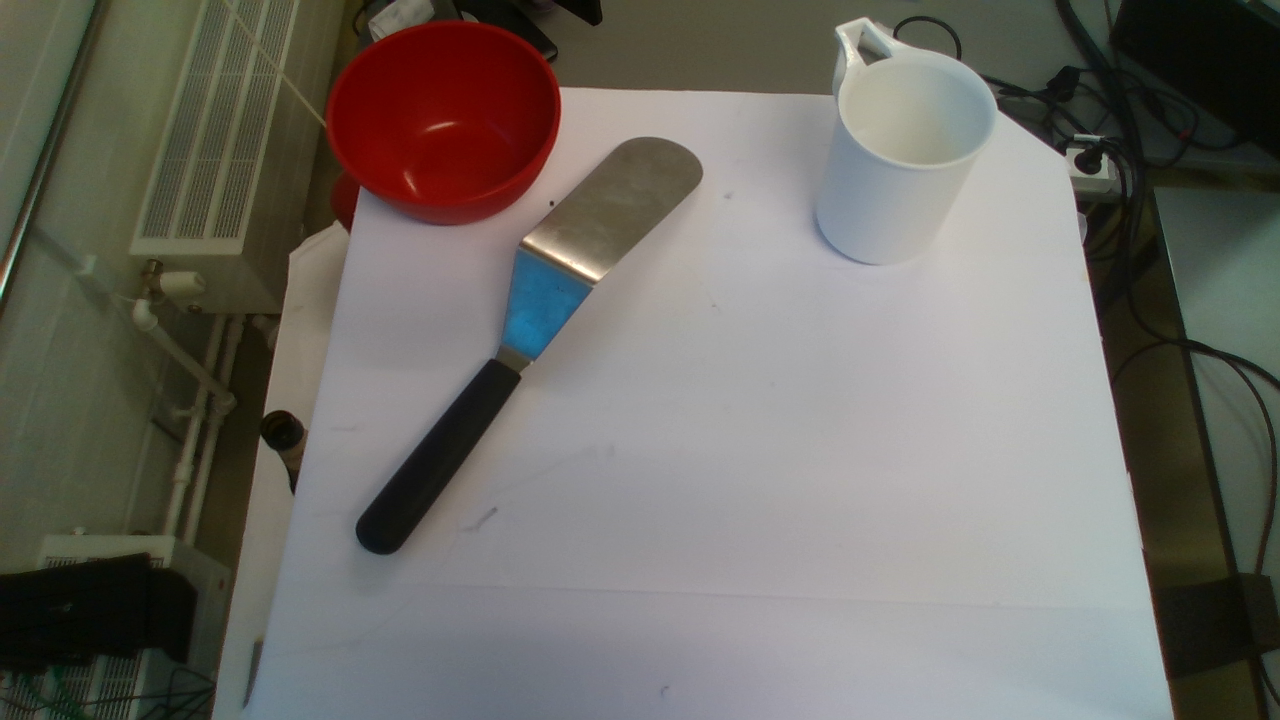bowl: (332, 21, 560, 228)
cup: (802, 15, 999, 269)
spatula: (348, 135, 701, 561)
